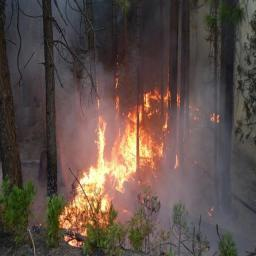Low smoke: (7, 0, 98, 156), (163, 127, 249, 252)
Medium fire: (91, 71, 195, 193)
Small fire: (65, 164, 116, 248)
